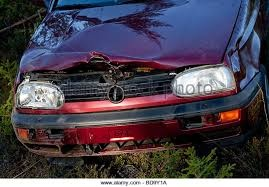Dent: (27, 25, 164, 72)
